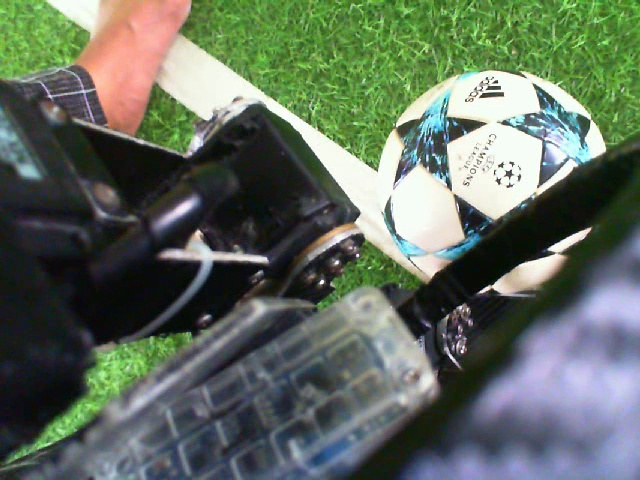ball: (374, 65, 609, 221)
